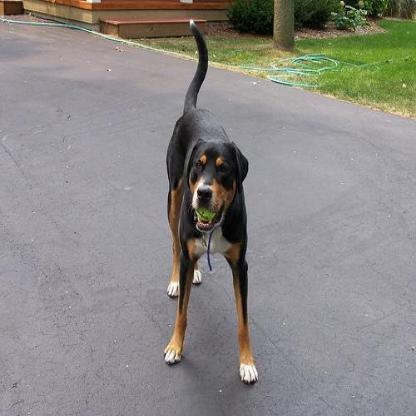Greater_Swiss_Mountain_dog: (162, 15, 259, 384)
